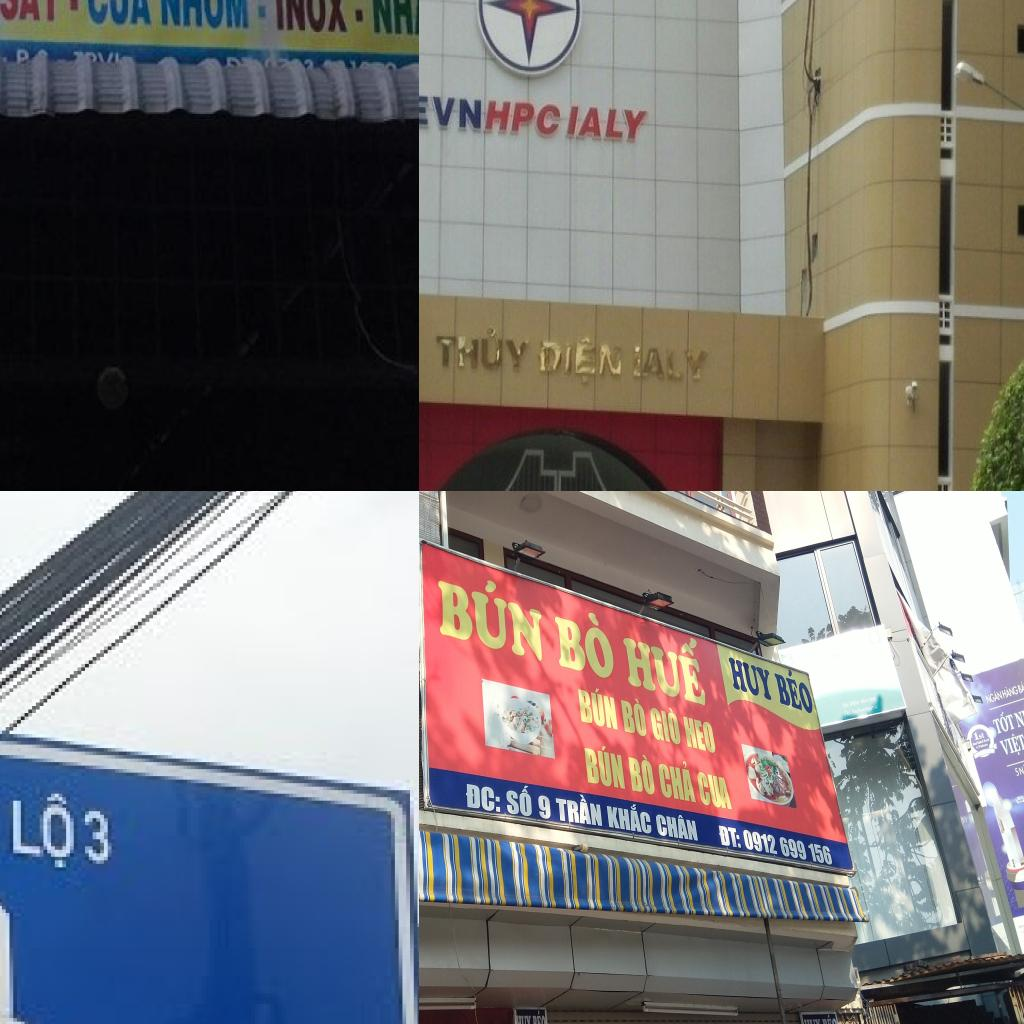text: (432, 563, 546, 668), (619, 618, 711, 714), (419, 93, 565, 144), (550, 595, 619, 688), (10, 787, 78, 871), (432, 324, 536, 378), (535, 336, 625, 389), (740, 826, 836, 868), (563, 103, 651, 144), (157, 0, 251, 32), (273, 0, 350, 35), (726, 653, 774, 707), (574, 680, 621, 734), (580, 742, 628, 792), (773, 664, 816, 718), (656, 755, 700, 807), (82, 804, 116, 871), (554, 788, 604, 832), (605, 798, 654, 839), (85, 0, 154, 28), (369, 0, 419, 38), (654, 806, 702, 844), (680, 711, 719, 757), (648, 699, 682, 750), (694, 772, 736, 812), (463, 779, 504, 819), (618, 691, 650, 742), (0, 0, 62, 25), (626, 749, 657, 798), (505, 782, 534, 821), (715, 820, 743, 852), (997, 729, 1024, 761), (990, 708, 1016, 736), (535, 791, 553, 825), (849, 694, 877, 708), (1012, 698, 1024, 730), (851, 703, 879, 716), (1001, 682, 1020, 700), (984, 689, 1004, 706), (531, 1009, 546, 1024), (515, 1012, 533, 1024), (822, 1012, 840, 1024), (972, 729, 986, 742), (802, 1016, 823, 1024), (1016, 678, 1024, 694), (842, 700, 850, 710), (844, 708, 852, 718), (979, 742, 989, 750), (1014, 793, 1024, 801), (1018, 762, 1024, 775), (1014, 766, 1020, 778), (977, 738, 985, 744), (984, 736, 990, 744), (971, 741, 978, 747), (976, 745, 980, 750)
